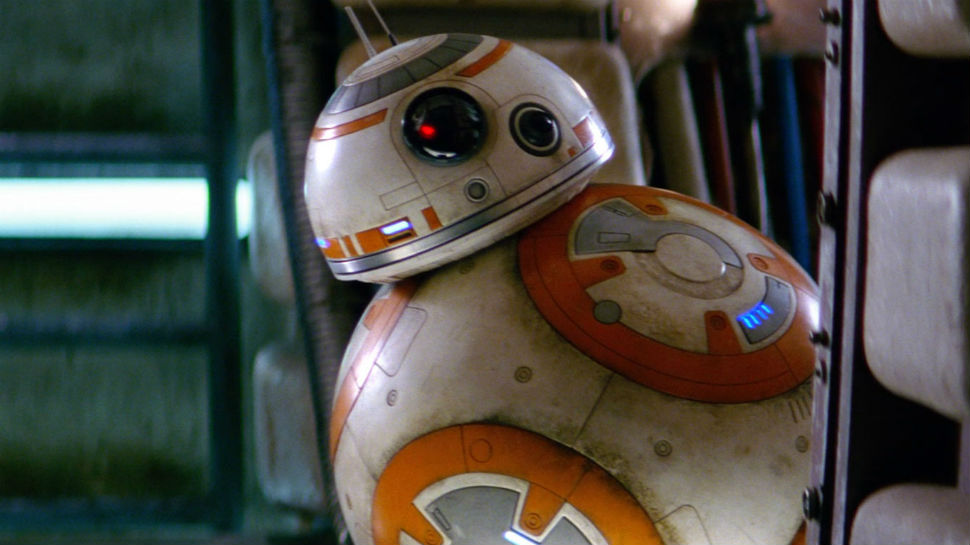bb8: (302, 31, 821, 545)
